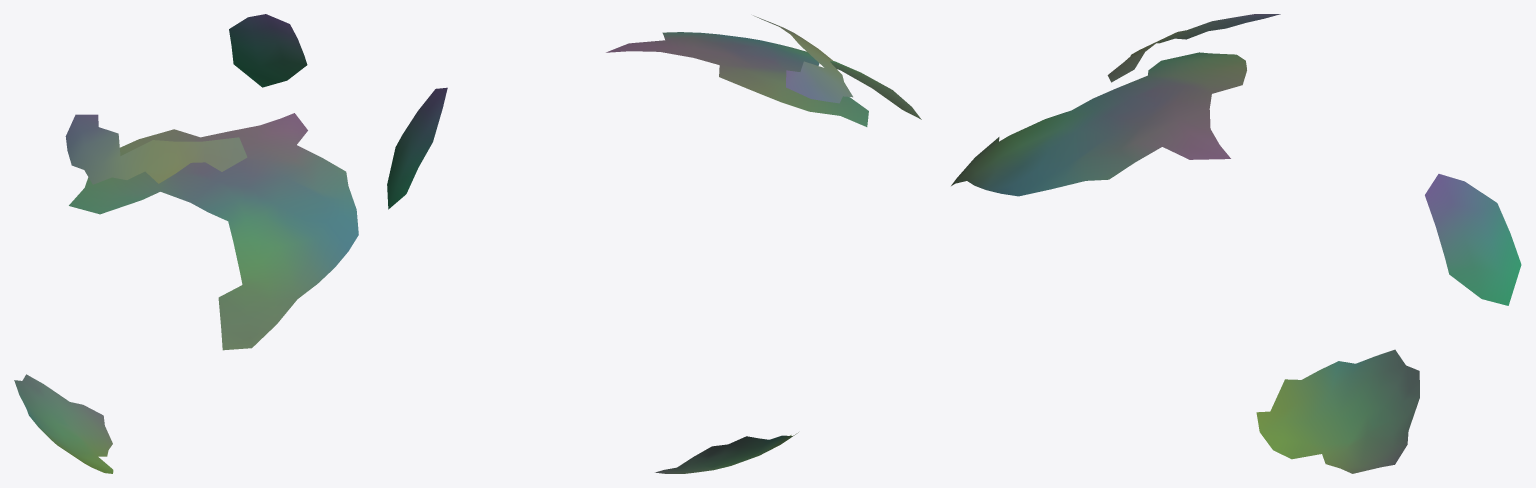
The model's file is space-nebulae-nebula_v3.fbx.
The picture shows the model from 3 angles, left to right: view 1: azimuth 30°, elevation 25°; view 2: azimuth 150°, elevation 25°; view 3: azimuth 270°, elevation 25°; orthographic projection. The views are drawn at different scales.
Visible parts, largest first — view 1: Nebula_v3; view 2: Nebula_v3; view 3: Nebula_v3.
Part boxes in pixels (x1,y1,x2,y2): Nebula_v3: [14, 14, 358, 473]; Nebula_v3: [387, 15, 921, 473]; Nebula_v3: [951, 14, 1521, 473].
Bounding box in the file's own units: 0.4025 × 0.4134 × 0.5.
